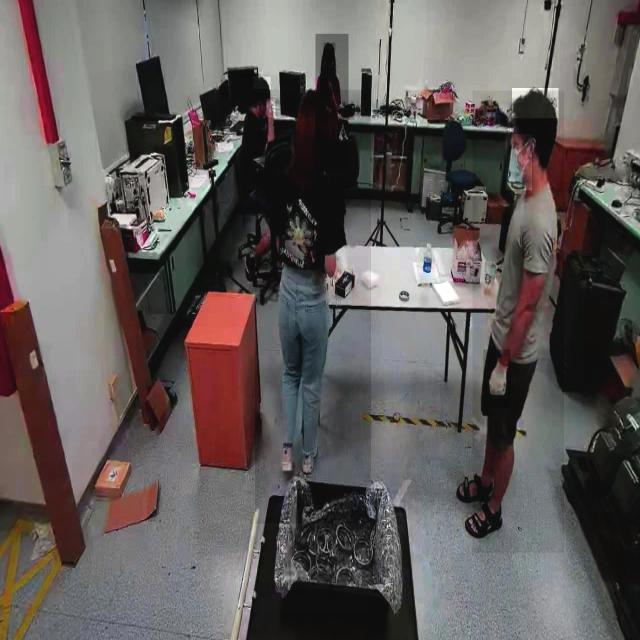face_mask: (506, 134, 532, 190)
face_nomask: (325, 56, 335, 74)
hand_glove: (483, 349, 511, 409)
hand_noglove: (266, 99, 276, 118), (323, 76, 333, 94), (332, 101, 339, 115)
head_nohelmet: (512, 88, 558, 119), (299, 88, 329, 120), (253, 76, 271, 90), (323, 42, 335, 52)
person: (255, 90, 371, 524), (472, 91, 564, 554), (233, 74, 283, 274), (315, 34, 349, 172)
shoes: (301, 439, 321, 476), (279, 440, 297, 475)
